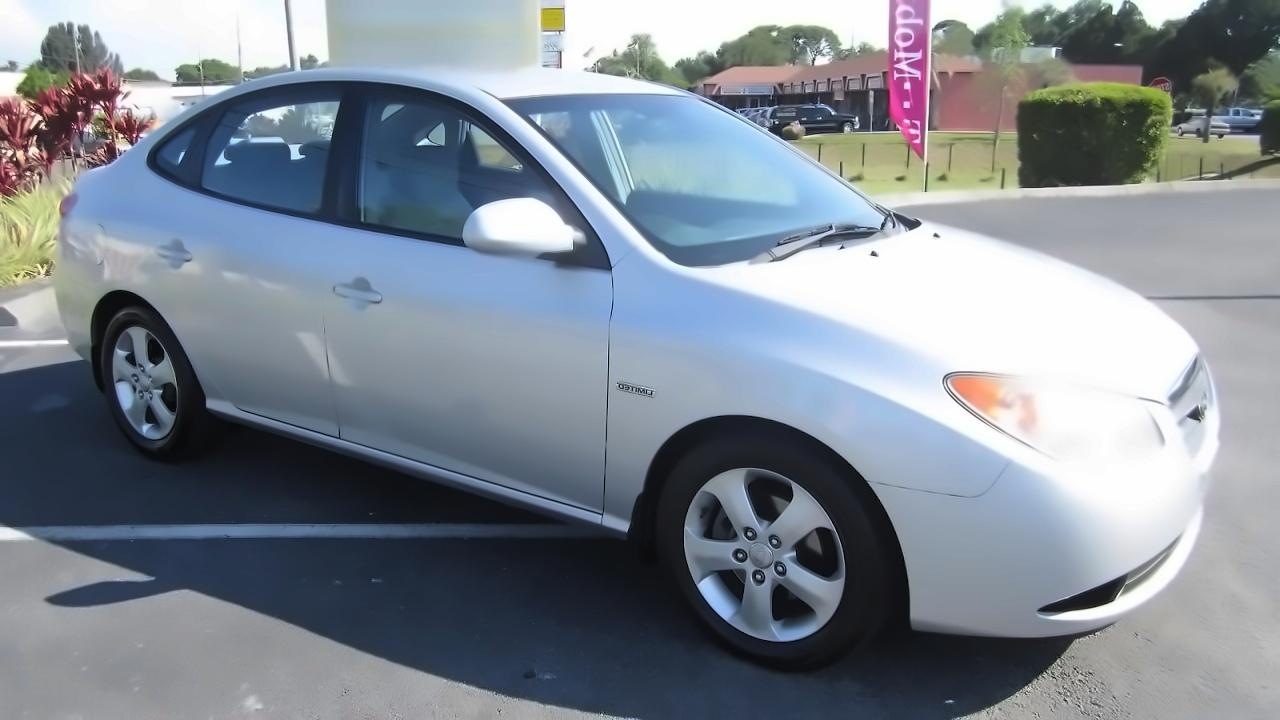Car hood: (655, 216, 1204, 411)
Driver-s door - -F-R-: (320, 55, 612, 533)
Fender - -F-R-: (590, 250, 1013, 548)
Fender - -R-R-: (49, 91, 182, 332)
Headlight - -R-: (945, 369, 1184, 492)
Passenger-s door - -R-R-: (147, 38, 365, 450)
Rear bumper: (49, 258, 114, 381)
Side bumper - -R-: (192, 348, 636, 537)
Side mirror - -R-: (462, 193, 599, 271)
